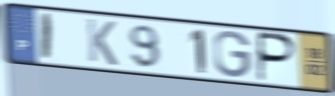1: (188, 28, 208, 75)
9: (127, 23, 165, 70)
G: (212, 29, 253, 79)
I: (40, 11, 55, 62)
K: (84, 16, 120, 68)
P: (255, 30, 299, 84)
